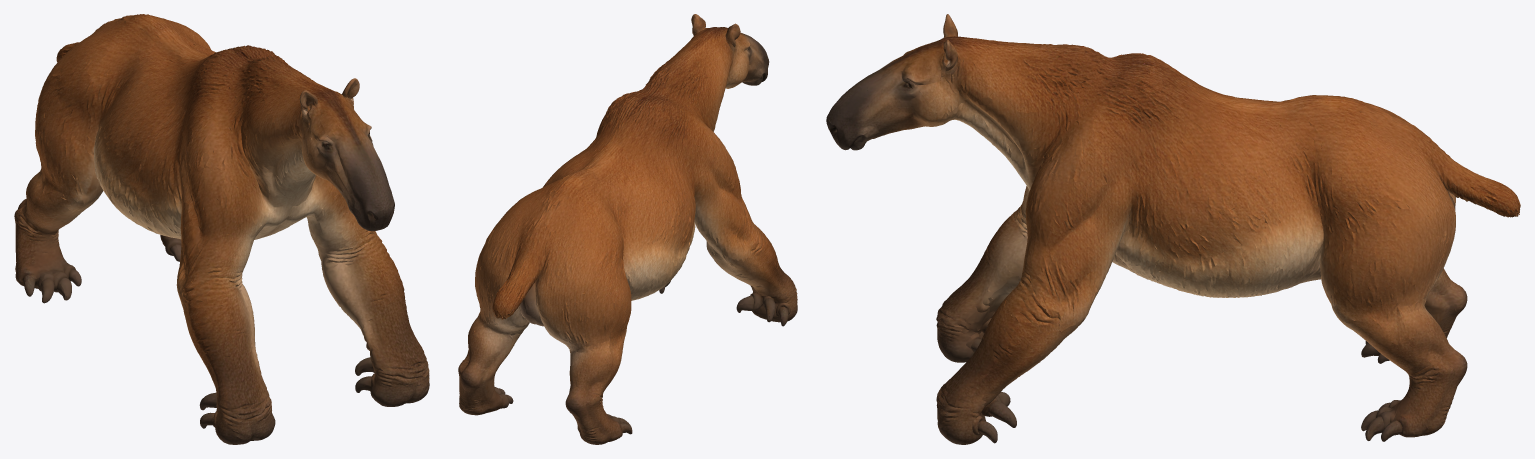
3 renders of one model, left to right at view 1: azimuth 30°, elevation 25°; view 2: azimuth 150°, elevation 25°; view 3: azimuth 270°, elevation 25°, orthographic. The views are drawn at different scales.
Parts seen in each view (by area): view 1: Authored orientation; view 2: Authored orientation; view 3: Authored orientation.
Part boxes in pixels (x1,y1,x2,y2): Authored orientation: [14, 14, 429, 444]; Authored orientation: [458, 14, 797, 444]; Authored orientation: [826, 14, 1520, 444].
Size of the model in its own units: 1.08 by 1.63 by 2.79.
Materials: 1 (1 with a texture image).
